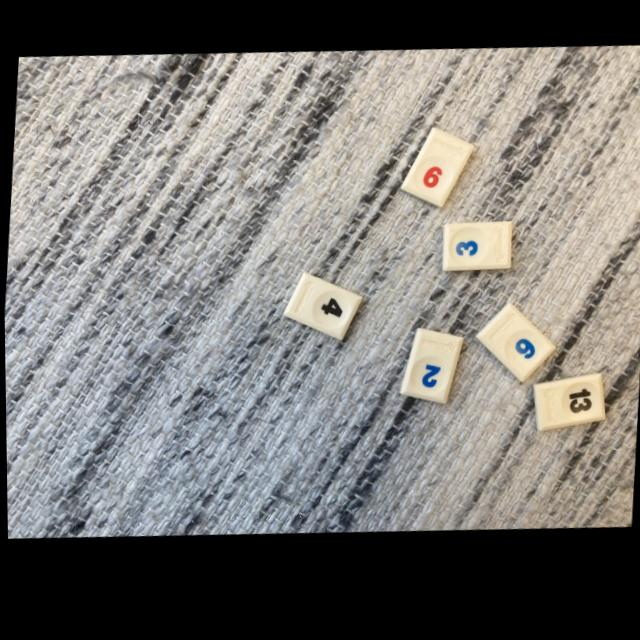black_13: (532, 384, 603, 440)
black_4: (283, 278, 361, 346)
blue_2: (399, 335, 462, 412)
blue_3: (442, 231, 510, 279)
blue_6: (474, 313, 554, 392)
red_9: (400, 136, 473, 215)
